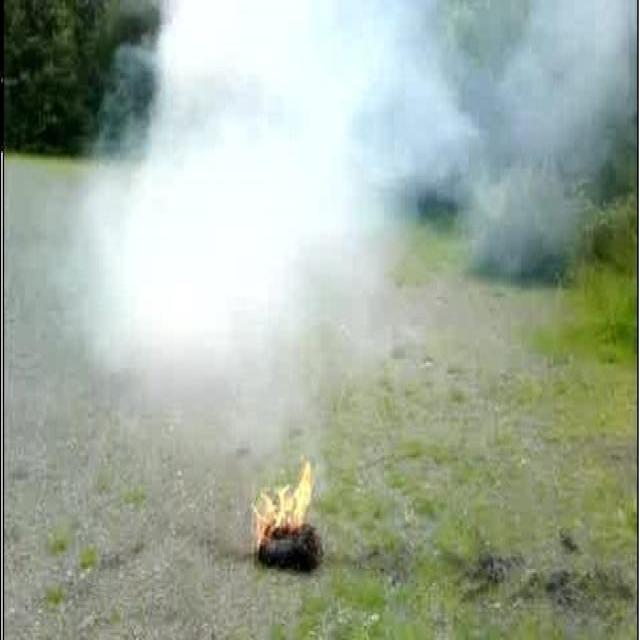Fire: (251, 458, 313, 554)
Smoke: (83, 0, 636, 456)
